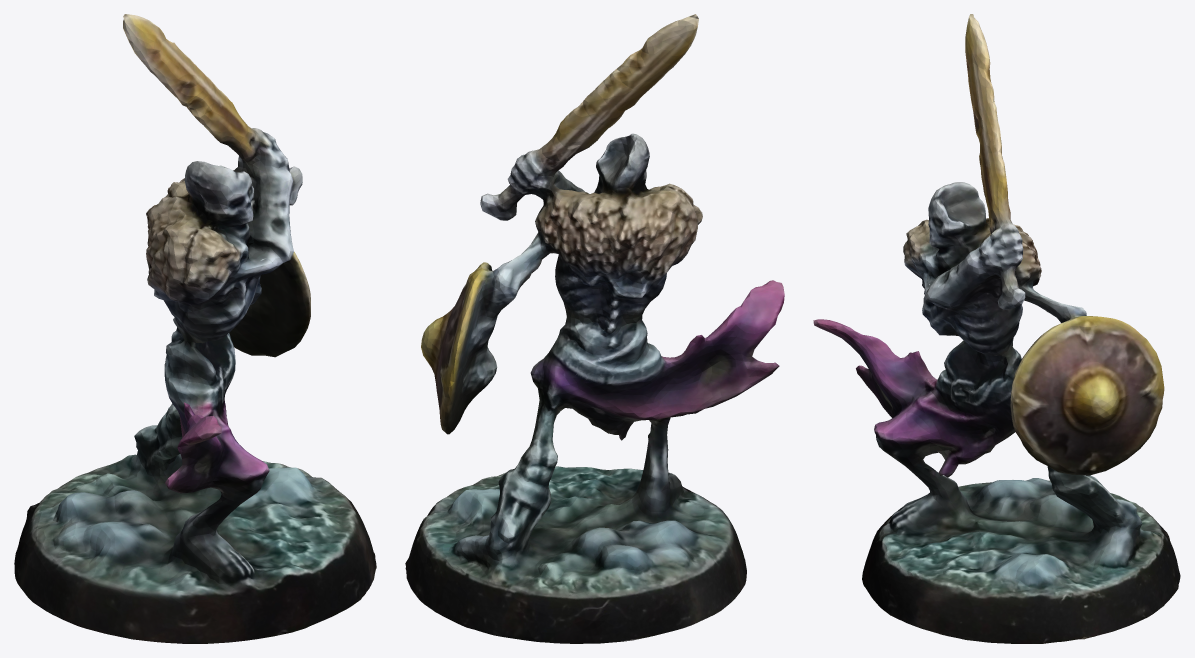
Rendered from underworlds.sepulchral.inevitable-petitioner.glb.
3 renders of one model, left to right at view 1: azimuth 30°, elevation 25°; view 2: azimuth 150°, elevation 25°; view 3: azimuth 270°, elevation 25°, orthographic. The views are drawn at different scales.
Bounding box in the file's own units: 0.2489 × 0.4505 × 0.2876.
Materials: 1 (1 with a texture image).
